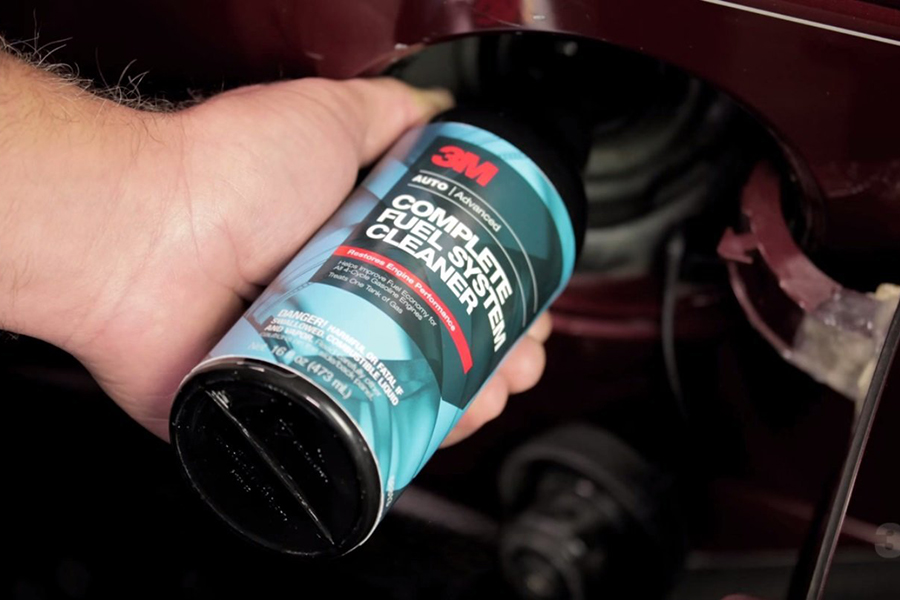3M: (429, 136, 502, 196)
